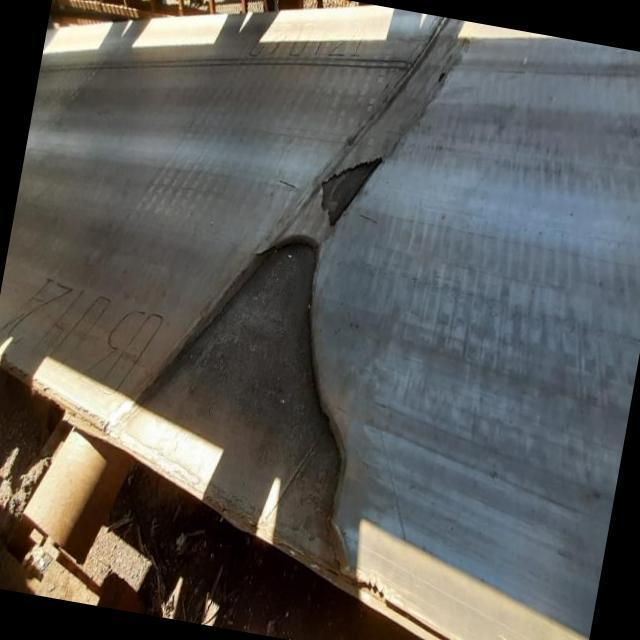Tear: (106, 231, 428, 593), (316, 152, 390, 235)
